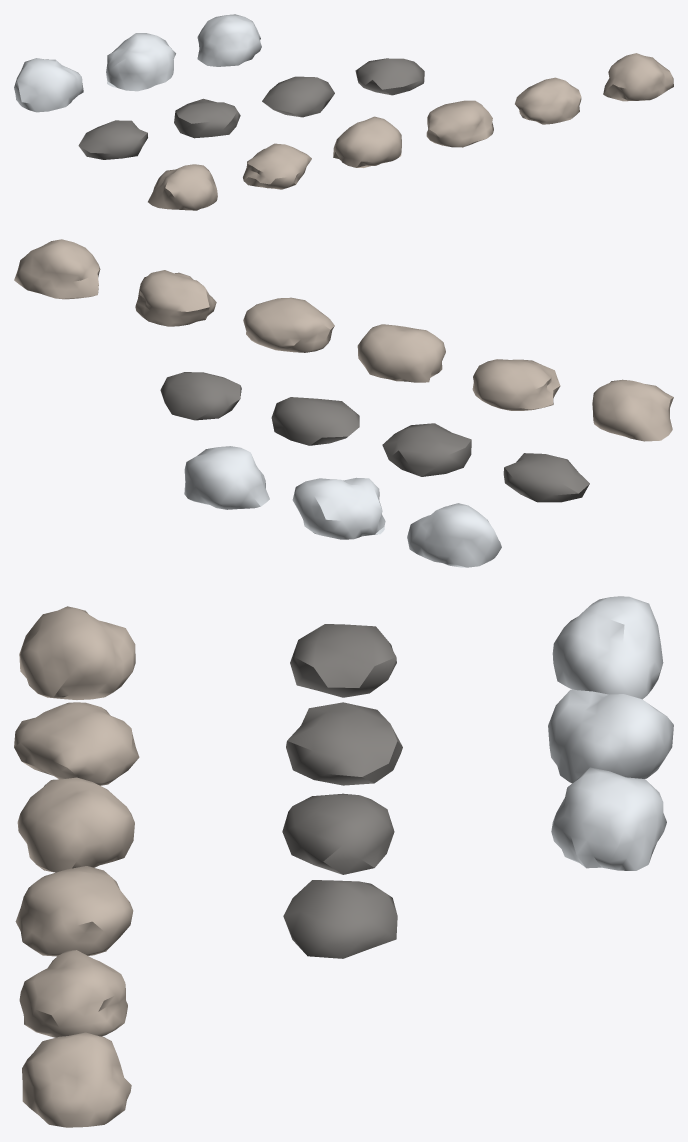
File: rocks.glb
3 views of the same model, one above another, from view 1: azimuth 30°, elevation 25°; view 2: azimuth 150°, elevation 25°; view 3: azimuth 270°, elevation 25° (orthographic). The views are drawn at different scales.
Visible parts, largest first — view 1: ice_1, ice_0, ice_2, boulder_2, boulder_3, boulder_5, boulder_0, boulder_4, boulder_1, rock_dark_2, rock_dark_0, rock_dark_1 (+1 smaller); view 2: ice_1, ice_0, ice_2, boulder_2, boulder_0, boulder_5, boulder_3, boulder_1, rock_dark_1, boulder_4, rock_dark_2, rock_dark_0 (+1 smaller); view 3: ice_1, ice_2, ice_0, boulder_2, boulder_0, boulder_5, boulder_3, boulder_1, rock_dark_1, boulder_4, rock_dark_3, rock_dark_2 (+1 smaller).
Part boxes in pixels (bbox=[...]): ice_1: bbox=[106, 33, 175, 91]; ice_0: bbox=[14, 58, 83, 112]; ice_2: bbox=[197, 14, 261, 66]; boulder_2: bbox=[333, 116, 401, 167]; boulder_3: bbox=[426, 100, 493, 147]; boulder_5: bbox=[603, 53, 673, 101]; boulder_0: bbox=[148, 164, 217, 210]; boulder_4: bbox=[515, 77, 581, 124]; boulder_1: bbox=[243, 143, 311, 189]; rock_dark_2: bbox=[262, 76, 334, 117]; rock_dark_0: bbox=[78, 120, 147, 159]; rock_dark_1: bbox=[174, 98, 240, 138]; ice_1: bbox=[292, 477, 385, 539]; ice_0: bbox=[407, 503, 501, 567]; ice_2: bbox=[184, 446, 269, 509]; boulder_2: bbox=[357, 324, 445, 382]; boulder_0: bbox=[592, 379, 673, 441]; boulder_5: bbox=[14, 239, 100, 299]; boulder_3: bbox=[243, 297, 334, 352]; boulder_1: bbox=[472, 359, 560, 410]; rock_dark_1: bbox=[382, 423, 471, 476]; boulder_4: bbox=[135, 270, 216, 326]; rock_dark_2: bbox=[271, 397, 359, 445]; rock_dark_0: bbox=[503, 453, 589, 502]; ice_1: bbox=[548, 689, 673, 783]; ice_2: bbox=[551, 767, 666, 870]; ice_0: bbox=[552, 596, 663, 699]; boulder_2: bbox=[17, 777, 134, 872]; boulder_0: bbox=[19, 606, 135, 699]; boulder_5: bbox=[22, 1032, 131, 1127]; boulder_3: bbox=[15, 866, 133, 956]; boulder_1: bbox=[14, 702, 139, 785]; rock_dark_1: bbox=[286, 702, 402, 785]; boulder_4: bbox=[19, 950, 127, 1037]; rock_dark_3: bbox=[283, 880, 397, 958]; rock_dark_2: bbox=[282, 793, 394, 874].
Size of the model in its own units: 17.18 by 1.17 by 9.91.
